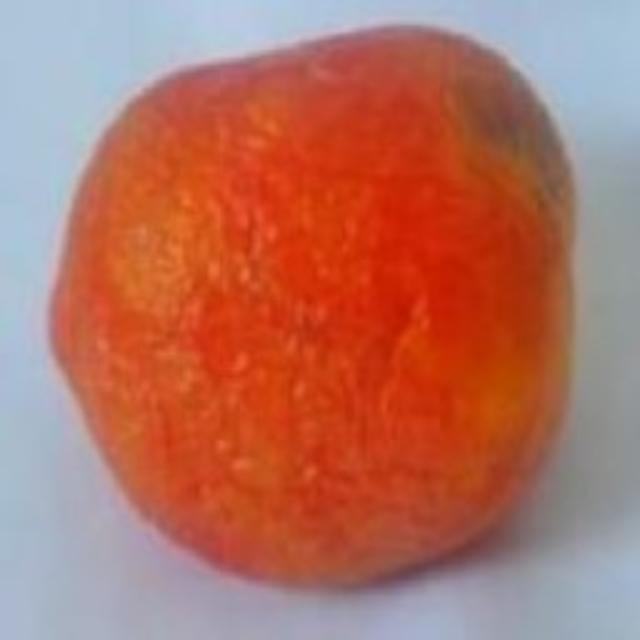defect: (47, 16, 578, 589)
